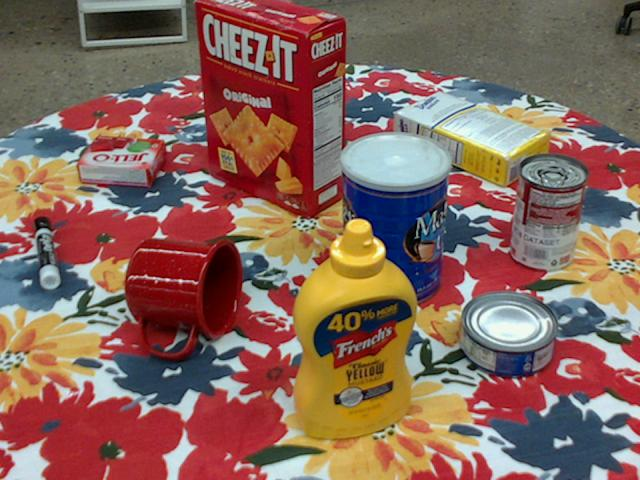cracker_box: (196, 0, 346, 213)
gelatin_box: (76, 137, 166, 187)
large_marker: (33, 215, 58, 288)
master_chef_can: (340, 132, 450, 309)
mug: (123, 238, 241, 358)
mustard_bottle: (292, 219, 415, 439)
potted_meat_can: (215, 48, 295, 126)
sugar_box: (393, 89, 551, 188)
tomato_soup_can: (510, 153, 587, 271)
tuna_fish_can: (458, 292, 556, 379)
